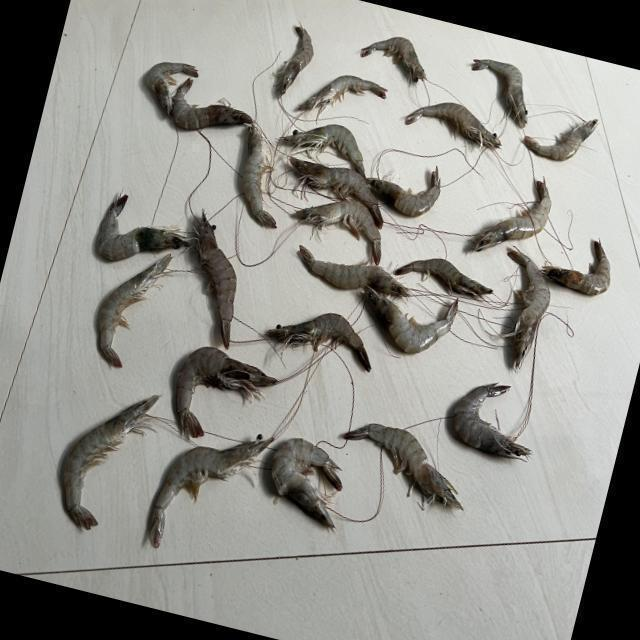shrimp: (148, 435, 273, 548), (63, 395, 158, 530), (344, 423, 463, 510), (175, 346, 277, 438), (98, 253, 171, 367), (289, 155, 383, 228), (363, 285, 458, 353), (271, 438, 341, 529), (499, 249, 551, 370), (266, 312, 371, 371), (97, 194, 188, 260), (453, 383, 531, 457), (471, 178, 551, 250), (193, 212, 235, 349), (293, 199, 381, 264), (299, 244, 409, 296), (279, 123, 365, 176), (405, 101, 501, 147), (299, 74, 387, 121), (171, 77, 252, 128), (472, 58, 528, 126), (542, 239, 611, 294), (366, 165, 440, 216), (394, 258, 493, 296), (242, 123, 276, 227), (524, 117, 599, 160), (360, 35, 426, 80), (145, 60, 197, 113), (280, 24, 313, 93)
